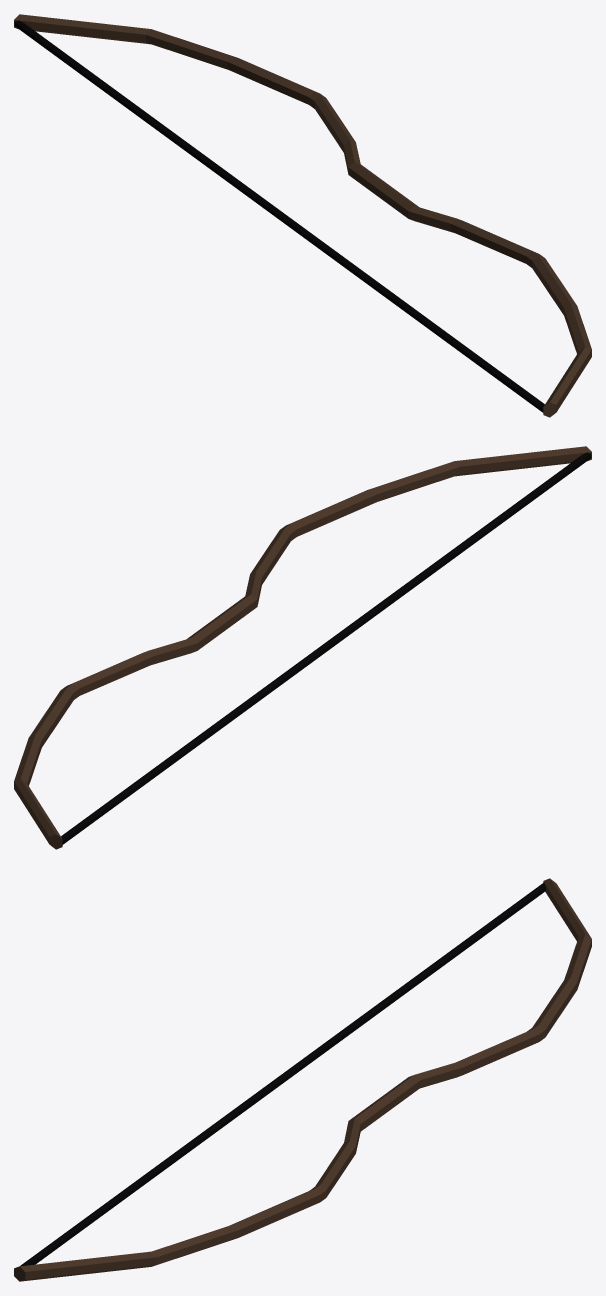
Rendered from Bow.fbx.
The picture shows the model from 3 angles, top to bottom: view 1: azimuth 30°, elevation 25°; view 2: azimuth 150°, elevation 25°; view 3: azimuth 330°, elevation 25°; orthographic projection.
Visible parts, largest first — view 1: Bow, String; view 2: Bow, String; view 3: Bow, String.
Boxes of the visible parts, left/top/right/bottom form: Bow: left=14, top=14, right=591, bottom=417; String: left=14, top=20, right=544, bottom=412; Bow: left=14, top=446, right=591, bottom=849; String: left=61, top=452, right=591, bottom=844; Bow: left=14, top=878, right=591, bottom=1281; String: left=20, top=883, right=545, bottom=1266.
Bounding box in the file's own units: 0.2108 × 0.02 × 1.26.
